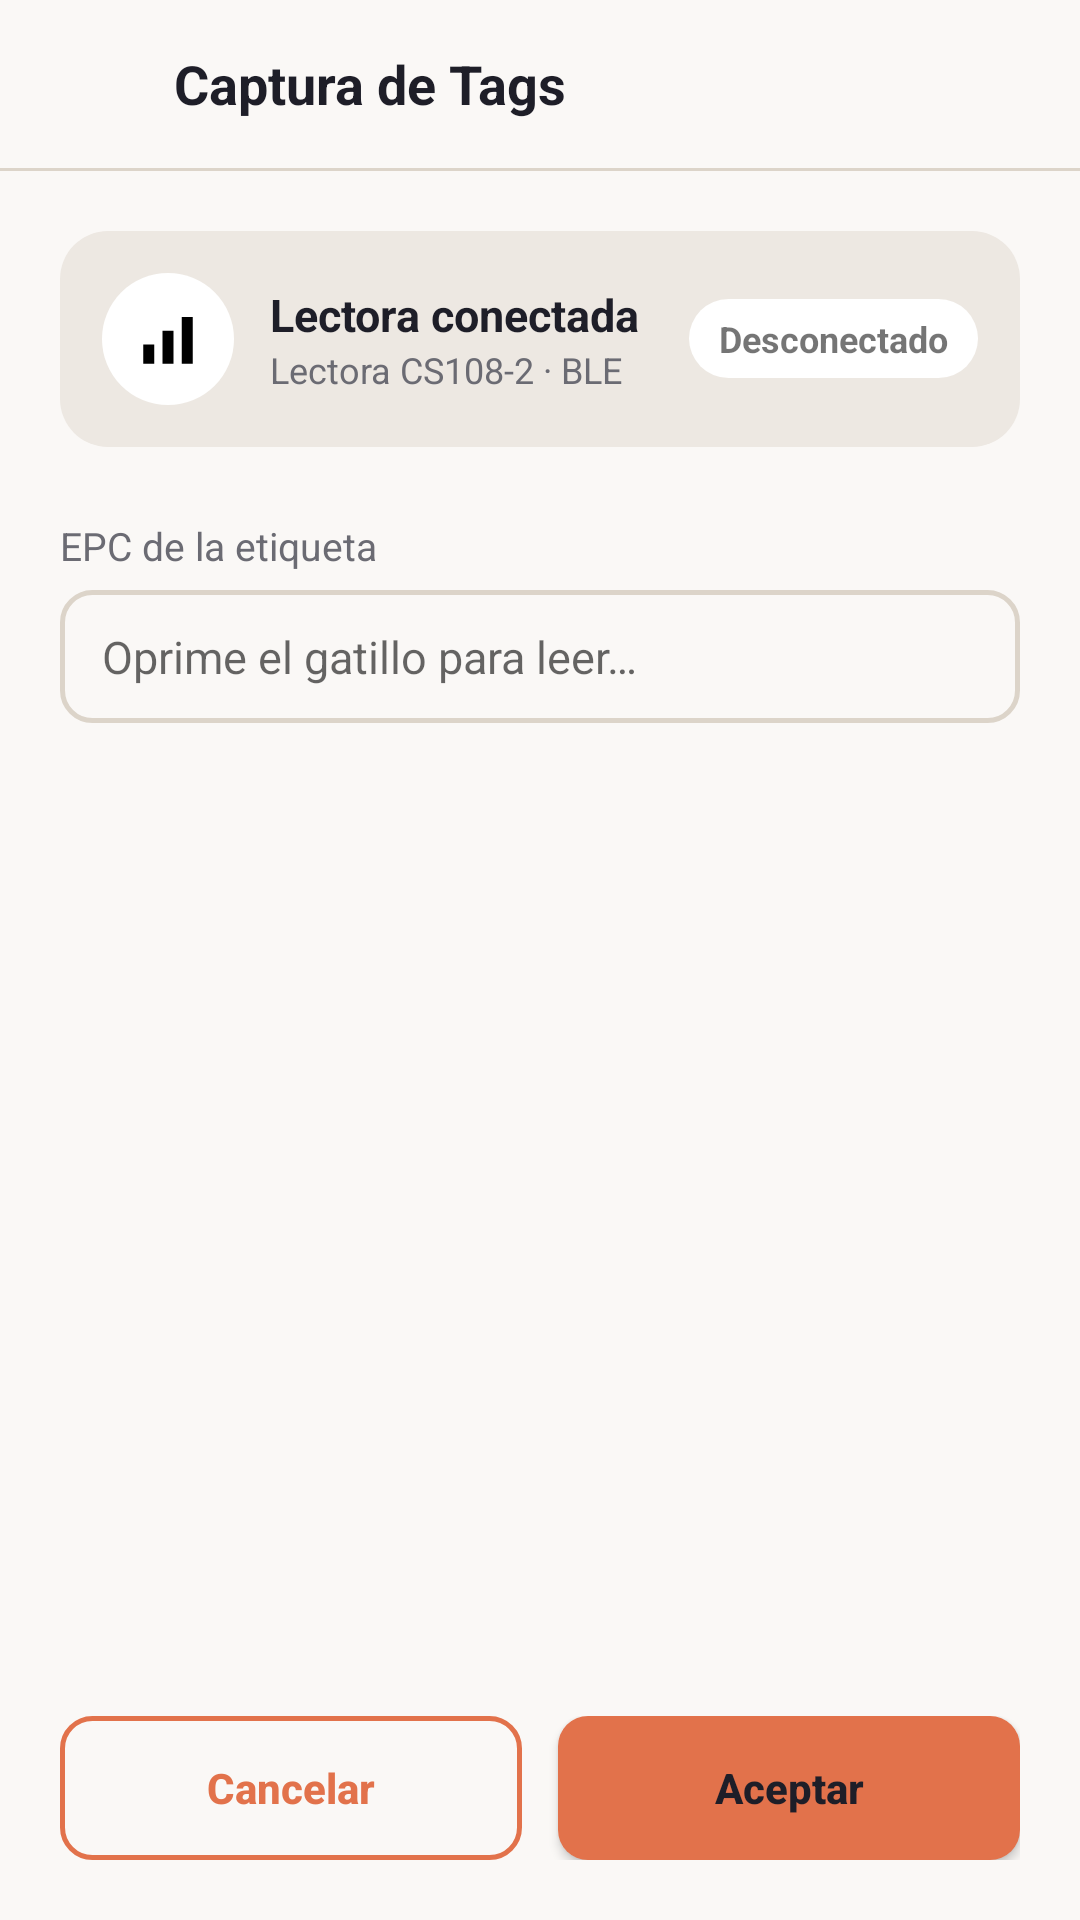

Point at icon controls on the screen. Image size 1080×1920, points as point (x, y).
signal: point (168, 339)
